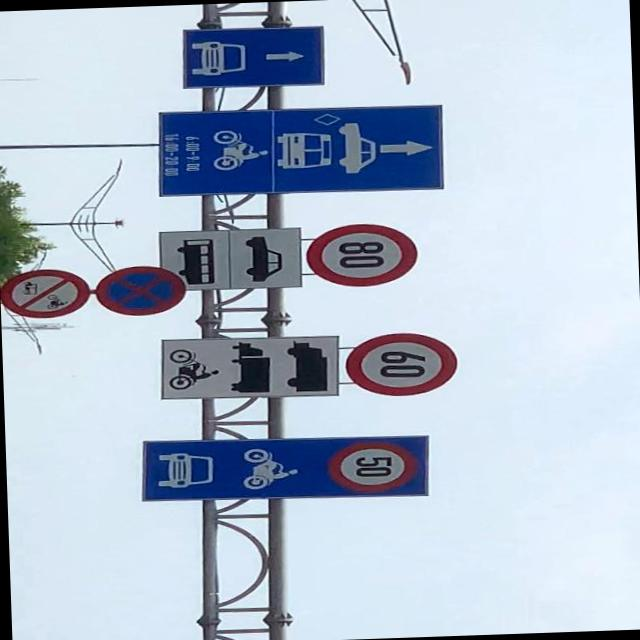P-104: (0, 266, 91, 318)
P-127: (344, 332, 458, 398), (305, 222, 418, 288)
P-130: (94, 264, 184, 316)
